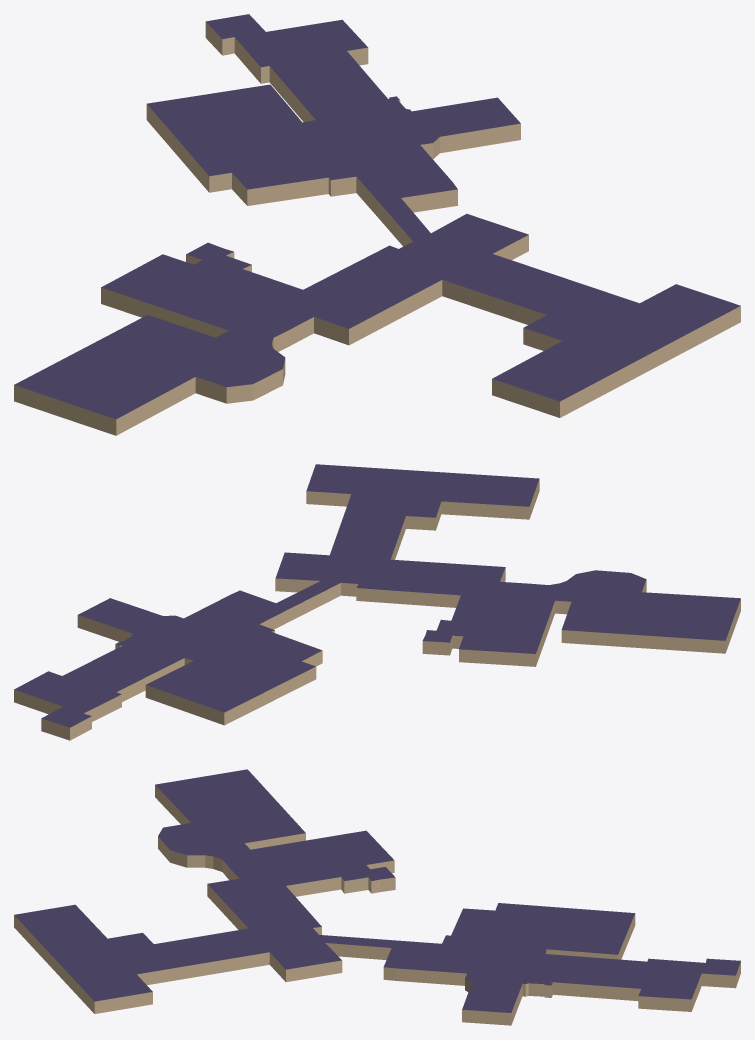
The picture shows the model from 3 angles, top to bottom: view 1: azimuth 30°, elevation 25°; view 2: azimuth 150°, elevation 25°; view 3: azimuth 270°, elevation 25°; orthographic projection. The views are drawn at different scales.
Visible parts, largest first — view 1: campus/b-019-0; view 2: campus/b-019-0; view 3: campus/b-019-0.
Part boxes in pixels (bbox=[...]): campus/b-019-0: bbox=[14, 14, 740, 435]; campus/b-019-0: bbox=[14, 464, 740, 740]; campus/b-019-0: bbox=[14, 769, 740, 1025].
Size of the model in its own units: 125 by 3 by 158.
